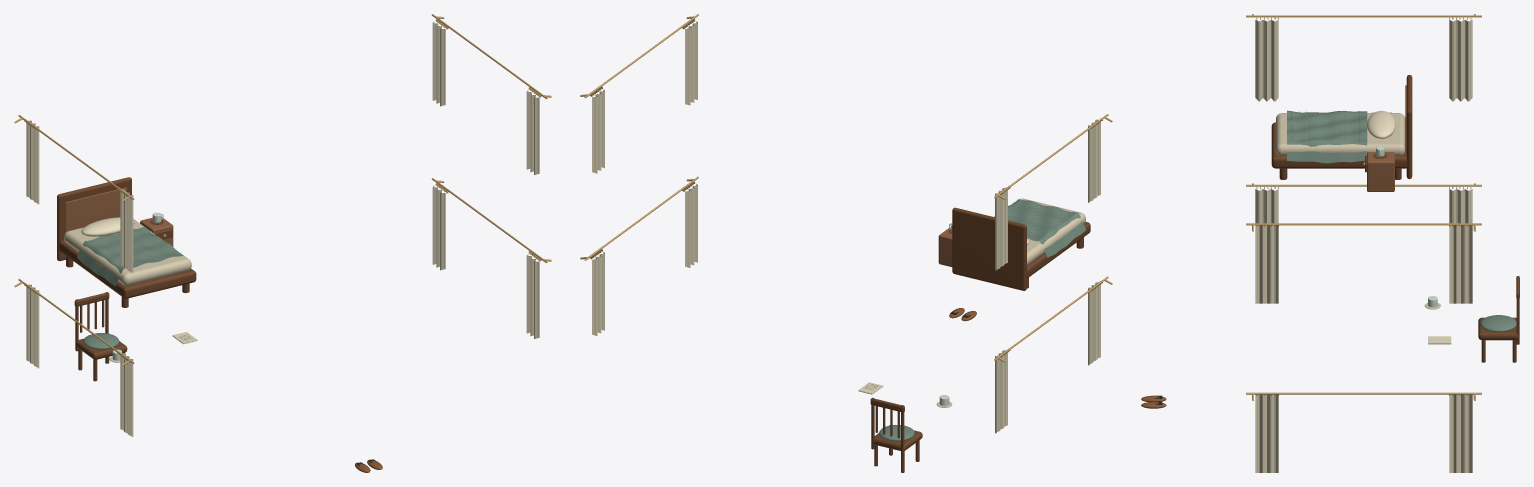
File: HouseFurnishings.fbx
3 views of the same model, side by side, from view 1: azimuth 30°, elevation 25°; view 2: azimuth 150°, elevation 25°; view 3: azimuth 270°, elevation 25° (orthographic). The views are drawn at different scales.
Visible parts, largest first — view 1: Bedroom / folded green quilt, Bedroom / padded mattress, Bedroom / headboard inset, Bedroom / rounded walnut bedframe, Bedroom / walnut headboard, House textiles / sun-faded linen.002, House textiles / sun-faded linen.003, House textiles / sun-faded linen.006, House textiles / sun-faded linen.007, House textiles / sun-faded linen.005, House textiles / sun-faded linen.001, House textiles / sun-faded linen.004 (+2 smaller); view 2: Bedroom / walnut headboard, Bedroom / folded green quilt, House textiles / sun-faded linen.002, House textiles / sun-faded linen.006, House textiles / sun-faded linen.007, House textiles / sun-faded linen.003, House textiles / sun-faded linen, House textiles / sun-faded linen.004, House textiles / sun-faded linen.001, House textiles / sun-faded linen.005, Bedroom / padded mattress; view 3: Bedroom / folded green quilt, Bedroom / padded mattress, House textiles / sun-faded linen.004, House textiles / sun-faded linen.005, House textiles / sun-faded linen.006, House textiles / sun-faded linen.007, House textiles / sun-faded linen.002, House textiles / sun-faded linen.003, Bedroom / rounded walnut bedframe, Bedroom / nightstand, House textiles / sun-faded linen, House textiles / sun-faded linen.001 (+8 smaller).
Part boxes in pixels (left/top/right/bottom): Bedroom / folded green quilt: left=77, top=226, right=191, bottom=286; Bedroom / padded mattress: left=64, top=219, right=191, bottom=285; Bedroom / headboard inset: left=65, top=187, right=126, bottom=232; Bedroom / rounded walnut bedframe: left=59, top=240, right=196, bottom=298; Bedroom / walnut headboard: left=57, top=177, right=131, bottom=260; House textiles / sun-faded linen.002: left=526, top=254, right=539, bottom=338; House textiles / sun-faded linen.003: left=432, top=185, right=445, bottom=270; House textiles / sun-faded linen.006: left=526, top=90, right=539, bottom=174; House textiles / sun-faded linen.007: left=432, top=21, right=445, bottom=106; House textiles / sun-faded linen.005: left=26, top=120, right=39, bottom=204; House textiles / sun-faded linen.001: left=26, top=284, right=39, bottom=368; House textiles / sun-faded linen.004: left=120, top=189, right=133, bottom=272; Bedroom / walnut headboard: left=952, top=207, right=1026, bottom=290; Bedroom / folded green quilt: left=994, top=199, right=1085, bottom=257; House textiles / sun-faded linen.002: left=685, top=184, right=697, bottom=267; House textiles / sun-faded linen.006: left=685, top=21, right=697, bottom=105; House textiles / sun-faded linen.007: left=592, top=89, right=604, bottom=173; House textiles / sun-faded linen.003: left=592, top=252, right=604, bottom=335; House textiles / sun-faded linen: left=1088, top=282, right=1100, bottom=365; House textiles / sun-faded linen.004: left=1088, top=119, right=1100, bottom=202; House textiles / sun-faded linen.001: left=995, top=350, right=1007, bottom=433; House textiles / sun-faded linen.005: left=995, top=187, right=1007, bottom=270; Bedroom / padded mattress: left=1011, top=198, right=1085, bottom=265; Bedroom / folded green quilt: left=1287, top=110, right=1367, bottom=163; Bedroom / padded mattress: left=1276, top=113, right=1405, bottom=156; House textiles / sun-faded linen.004: left=1255, top=19, right=1278, bottom=101; House textiles / sun-faded linen.005: left=1449, top=19, right=1472, bottom=101; House textiles / sun-faded linen.006: left=1255, top=225, right=1278, bottom=303; House textiles / sun-faded linen.007: left=1449, top=225, right=1472, bottom=303; House textiles / sun-faded linen.002: left=1255, top=394, right=1278, bottom=472; House textiles / sun-faded linen.003: left=1449, top=394, right=1472, bottom=472; Bedroom / rounded walnut bedframe: left=1271, top=122, right=1407, bottom=168; Bedroom / nightstand: left=1367, top=152, right=1394, bottom=191; House textiles / sun-faded linen: left=1255, top=189, right=1278, bottom=223; House textiles / sun-faded linen.001: left=1449, top=189, right=1472, bottom=223.
Size of the model in its own units: 877 by 557 by 649.
